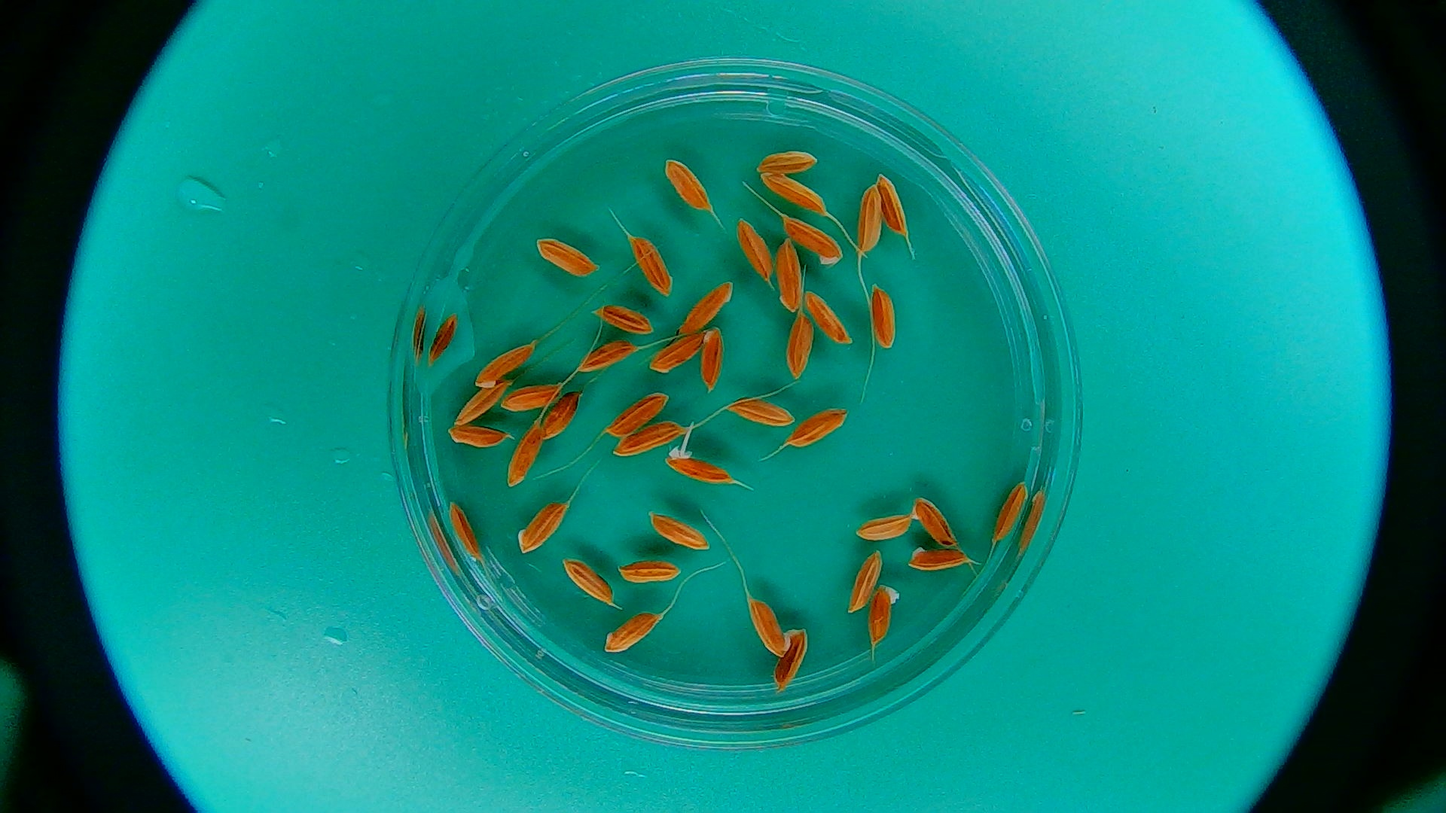no: (776, 209, 846, 268), (643, 324, 708, 383), (697, 323, 746, 401), (673, 276, 738, 334), (450, 373, 514, 427), (504, 420, 551, 489), (534, 382, 583, 447), (627, 235, 674, 299), (474, 341, 536, 388), (786, 404, 849, 450), (557, 558, 621, 602), (734, 217, 776, 284), (588, 297, 660, 336), (804, 292, 853, 349), (764, 173, 830, 215), (608, 391, 667, 437), (517, 501, 566, 556), (908, 495, 959, 547), (606, 609, 660, 656), (664, 160, 713, 211), (994, 478, 1030, 545), (616, 419, 686, 453), (773, 239, 806, 311), (775, 626, 811, 690), (746, 598, 786, 655), (853, 186, 885, 257), (502, 379, 563, 416), (649, 513, 705, 553), (849, 550, 883, 614), (538, 240, 595, 278), (783, 309, 816, 373), (907, 541, 969, 574), (758, 147, 818, 180), (865, 582, 896, 644), (869, 285, 898, 351), (731, 395, 792, 425), (856, 512, 913, 544), (581, 339, 636, 372), (877, 175, 908, 233), (443, 425, 508, 452), (620, 559, 681, 586), (429, 315, 457, 364)
yes: (670, 447, 733, 485)
